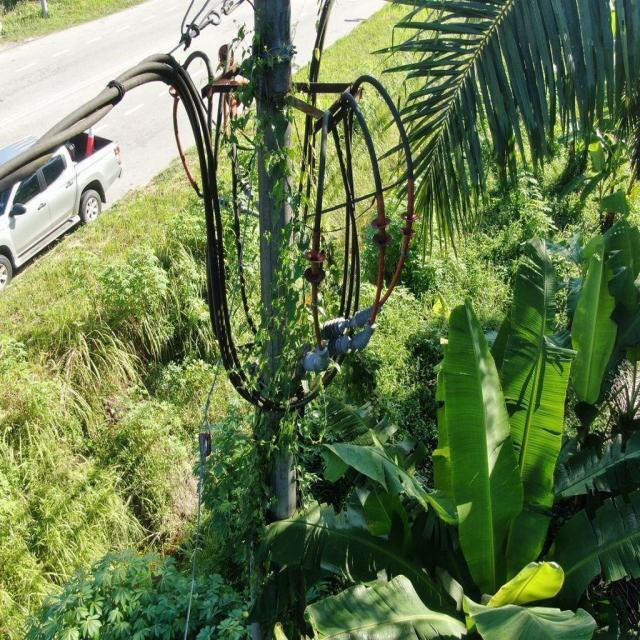critical vegetation: (210, 10, 359, 565)
